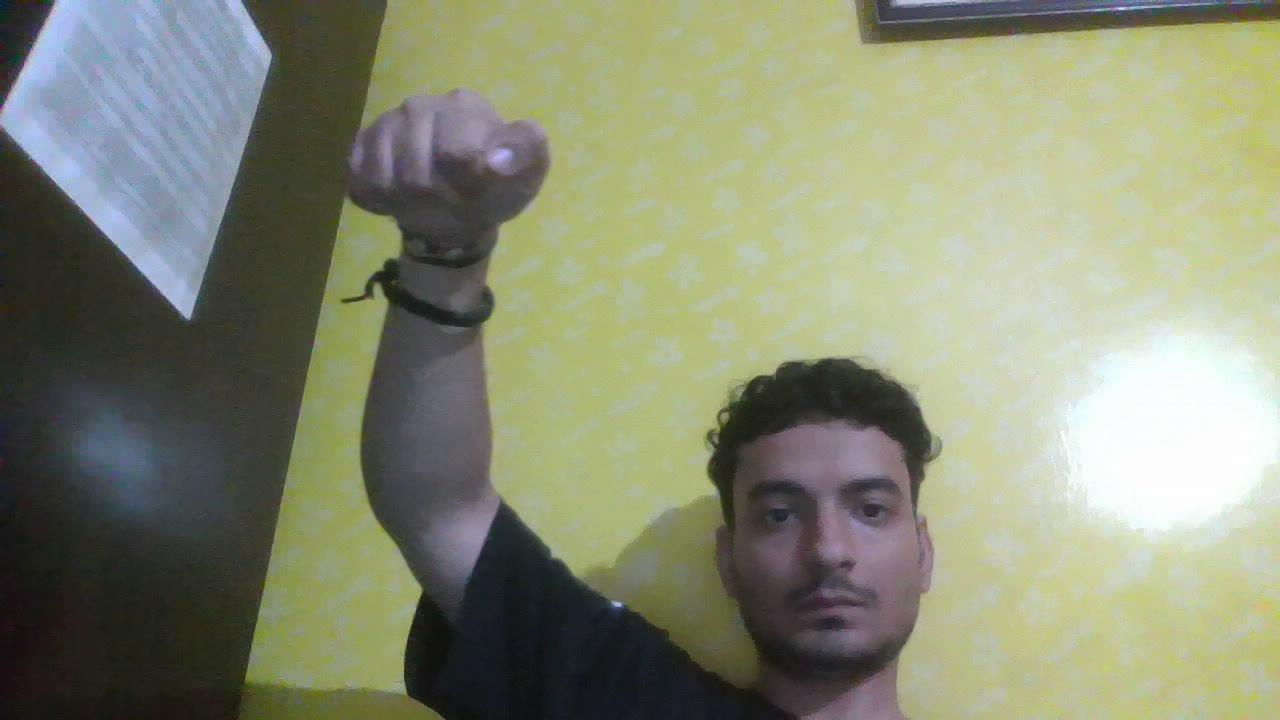Yes: (326, 55, 600, 268)
